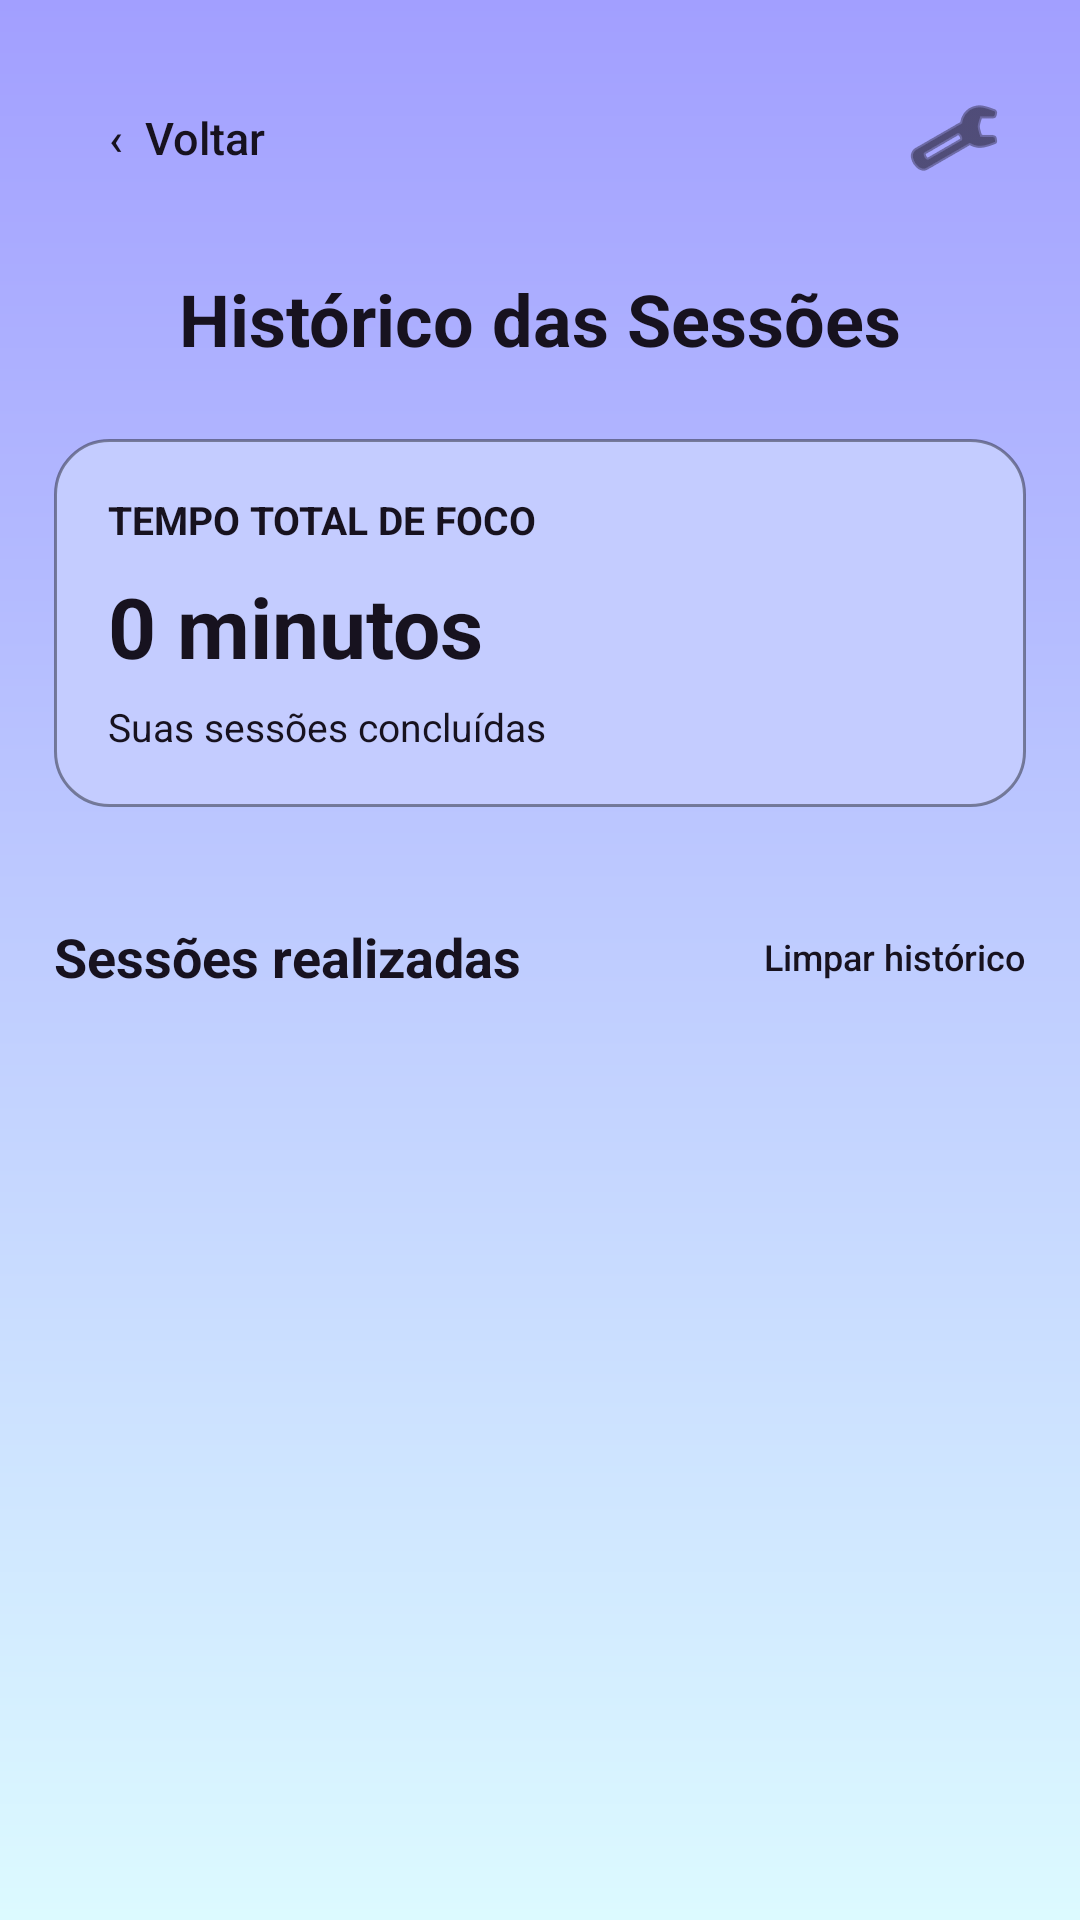

Named icons in this screenshot (1080px x 1920px) and their centers, (x,y):
Configurações: (954,138)
